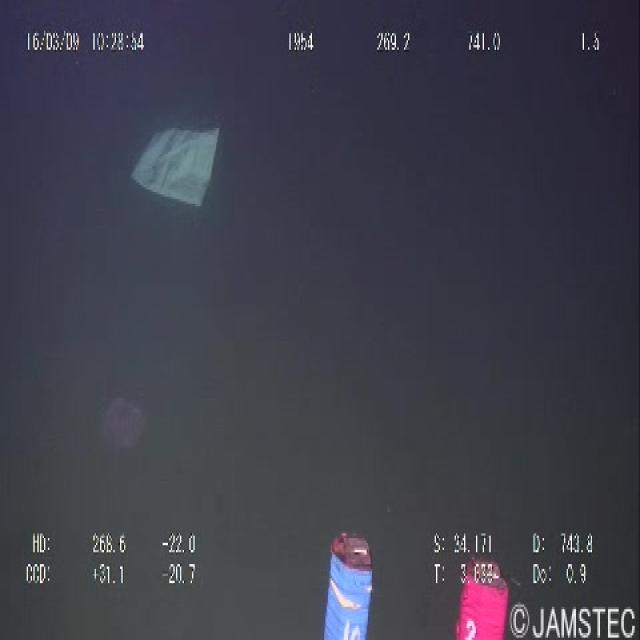plastic: (127, 116, 224, 216)
